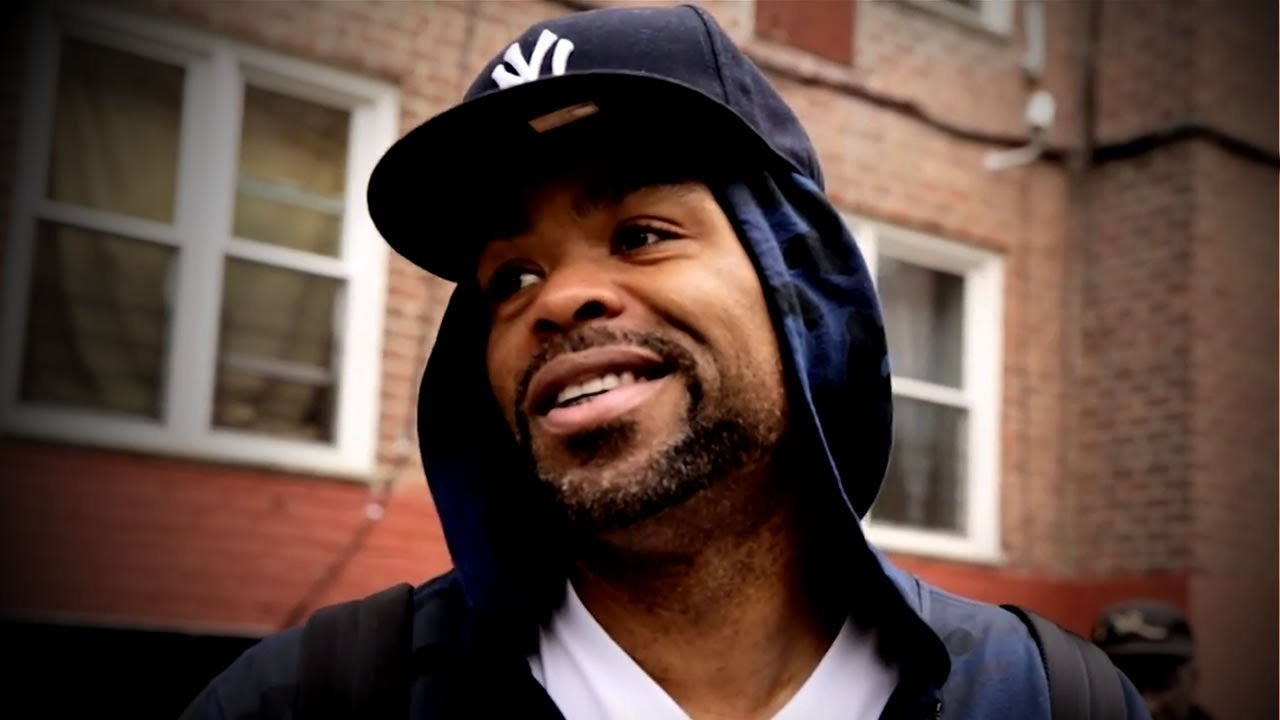without_mask: (466, 163, 794, 540)
